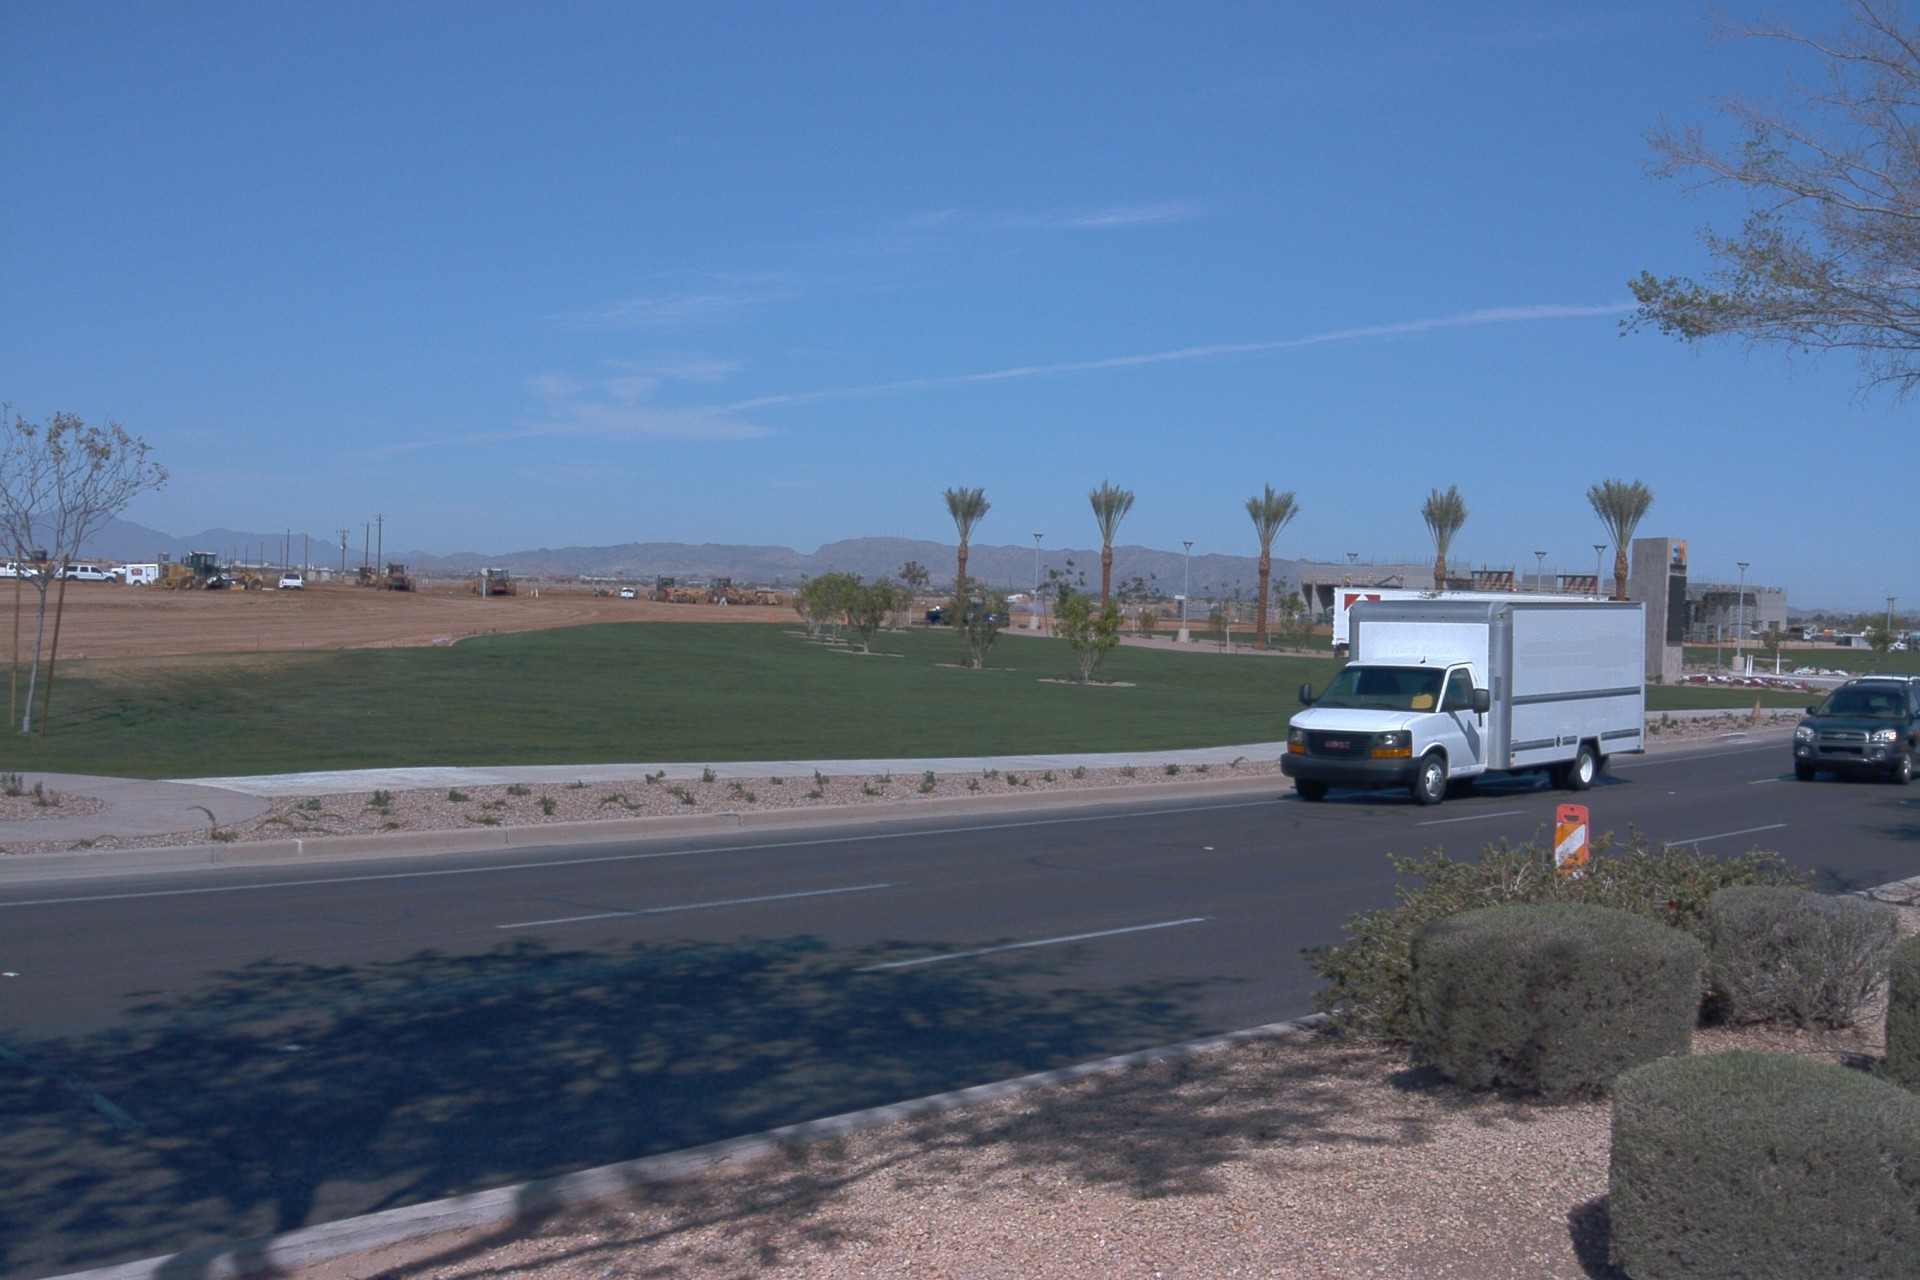TYPE_PEDESTRIAN: (591, 586, 600, 600), (609, 586, 617, 600), (927, 606, 941, 612)
TYPE_VEHICLE: (1279, 597, 1649, 807), (1329, 582, 1612, 675), (1793, 681, 1919, 788), (145, 550, 264, 599), (1325, 568, 1406, 612), (921, 600, 1011, 632), (375, 561, 419, 594), (471, 568, 518, 596), (55, 566, 117, 586), (0, 563, 48, 584), (1852, 675, 1919, 689), (124, 567, 160, 588), (1005, 588, 1035, 607), (280, 573, 303, 592), (358, 568, 381, 587), (615, 583, 632, 597), (103, 565, 122, 577)
